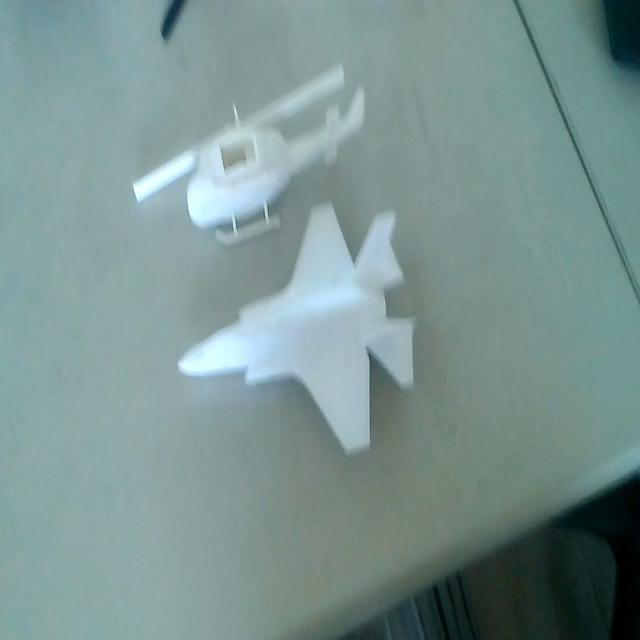Helicopter: (127, 57, 374, 250)
Jet: (170, 195, 420, 456)
